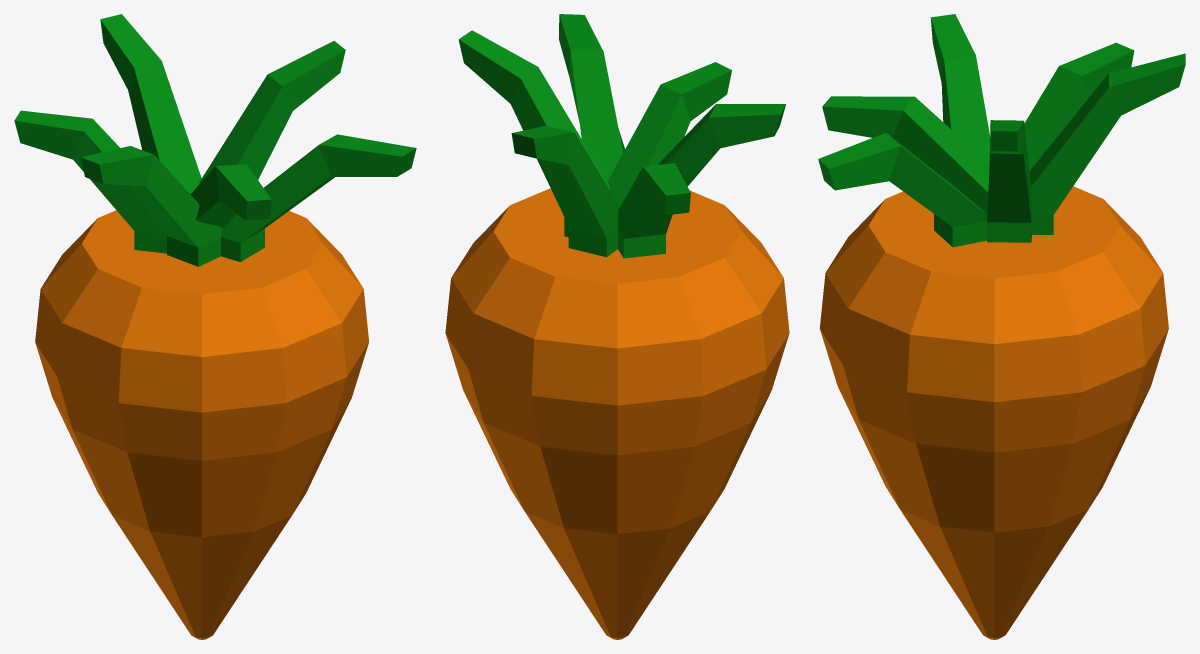
Rendered from carrot.fbx.
The picture shows the model from 3 angles, left to right: view 1: azimuth 30°, elevation 25°; view 2: azimuth 150°, elevation 25°; view 3: azimuth 270°, elevation 25°; orthographic projection. The views are drawn at different scales.
Visible parts, largest first — view 1: Cylinder, Cube.004, Cube, Cube.002, Cube.005, Cube.001, Cube.003; view 2: Cylinder, Cube, Cube.003, Cube.004, Cube.005, Cube.001, Cube.002; view 3: Cylinder, Cube, Cube.003, Cube.004, Cube.002, Cube.001, Cube.005.
Part boxes in pixels (x1,y1,x2,y2): Cylinder: (35,210,368,639); Cube.004: (221,134,416,261); Cube: (100,14,201,193); Cube.002: (81,146,222,266); Cube.005: (199,41,345,183); Cube.001: (14,110,166,253); Cube.003: (190,164,271,227); Cylinder: (445,188,789,639); Cube: (511,126,619,257); Cube.003: (607,62,731,206); Cube.004: (558,14,624,181); Cube.005: (458,30,609,237); Cube.001: (618,163,690,258); Cube.002: (658,104,785,186); Cylinder: (819,186,1168,639); Cube: (1029,53,1185,234); Cube.003: (822,96,989,213); Cube.004: (818,132,987,247); Cube.002: (930,14,989,163); Cube.001: (1024,42,1134,170); Cube.005: (987,120,1031,242).
Bounding box in the file's own units: 127 × 233 × 134.
